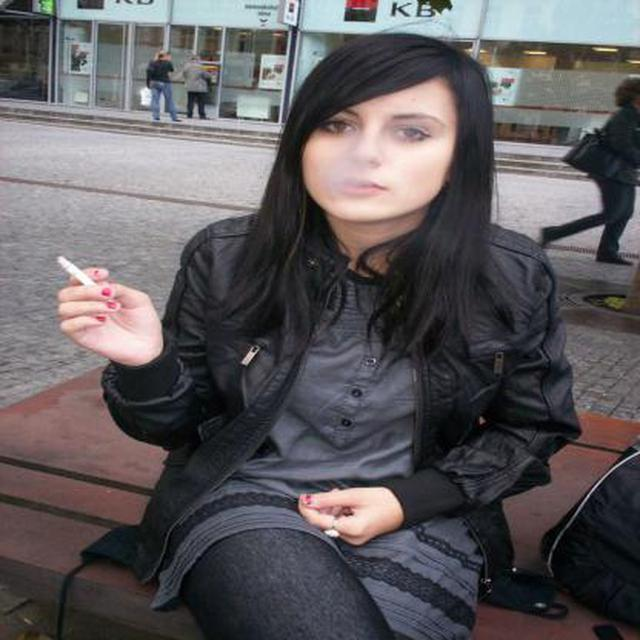smoking: (56, 257, 104, 292)
